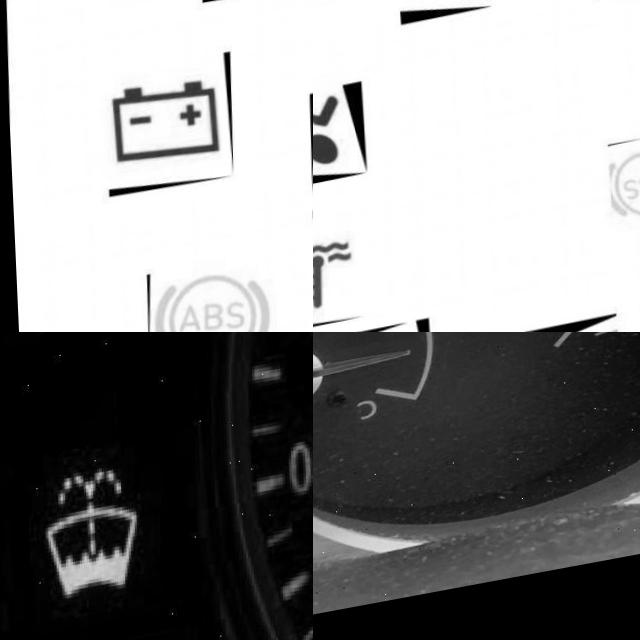Washer Fluid: (41, 479, 140, 614)
